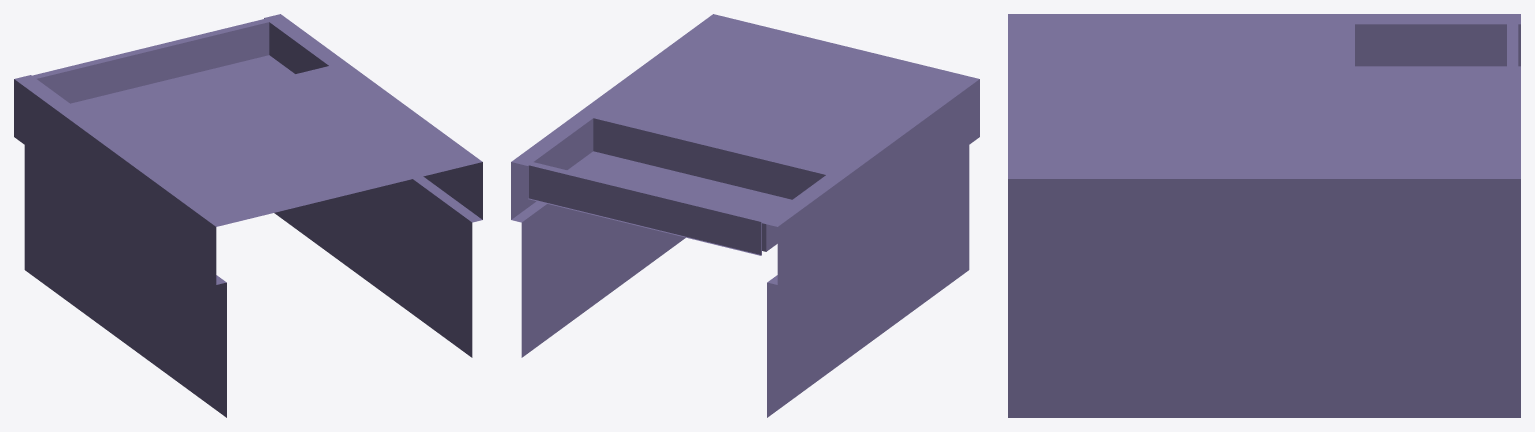
File: Comedero_Largo_P2.fbx
3 views of the same model, side by side, from view 1: azimuth 30°, elevation 25°; view 2: azimuth 150°, elevation 25°; view 3: azimuth 270°, elevation 25° (orthographic). The views are drawn at different scales.
Visible parts, largest first — view 1: Comedero_Largo1; view 2: Comedero_Largo1; view 3: Comedero_Largo1.
Part boxes in pixels (x1,y1,x2,y2): Comedero_Largo1: (14, 14, 482, 417); Comedero_Largo1: (511, 14, 979, 417); Comedero_Largo1: (1008, 14, 1520, 417).
Bounding box in the file's own units: 76 × 52.74 × 99.87.
